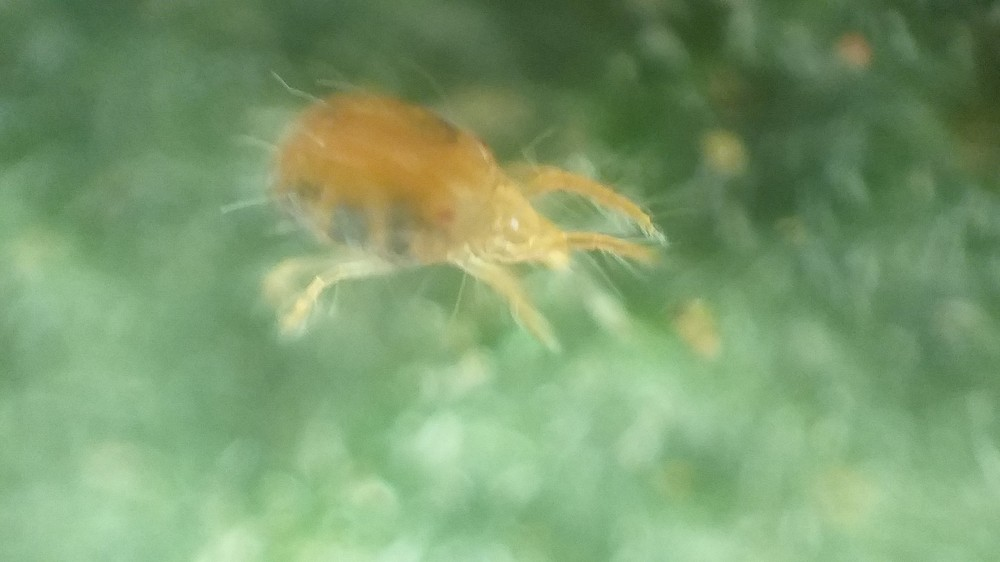Aracnido Rojo: (180, 62, 710, 383)
